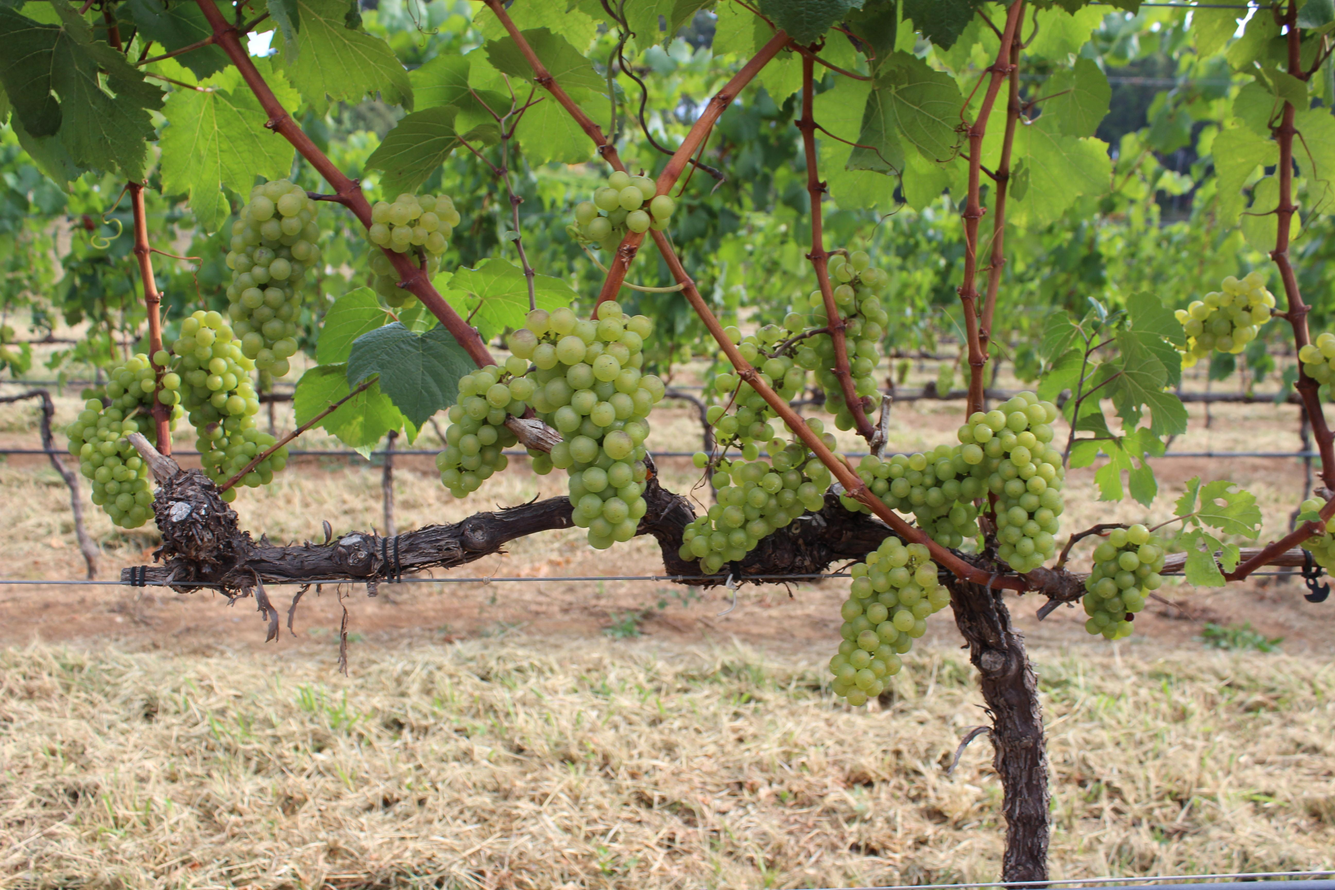leaf: (0, 0, 162, 181), (160, 68, 294, 232), (284, 0, 413, 116), (849, 53, 962, 173), (347, 322, 476, 426), (1008, 115, 1111, 227), (814, 78, 896, 209), (1104, 332, 1188, 436), (365, 106, 460, 194), (409, 54, 510, 132), (435, 257, 529, 340), (318, 382, 417, 456), (1212, 126, 1278, 225), (10, 114, 84, 192), (316, 287, 389, 365), (1126, 292, 1185, 386), (521, 27, 606, 92), (516, 96, 595, 165), (1175, 476, 1262, 538), (1095, 428, 1163, 506), (1045, 57, 1111, 137), (117, 0, 212, 51), (759, 0, 863, 45), (507, 0, 597, 51), (624, 0, 711, 50), (1294, 108, 1335, 212), (1027, 6, 1104, 61), (1196, 480, 1262, 538), (903, 0, 981, 49), (1176, 529, 1240, 587), (294, 363, 351, 425), (1225, 14, 1284, 71), (902, 151, 959, 210), (1122, 428, 1163, 506), (846, 0, 897, 62), (1239, 175, 1279, 252), (1231, 80, 1282, 138), (711, 2, 760, 58), (623, 0, 675, 51), (755, 50, 801, 105), (1038, 348, 1085, 400), (1094, 440, 1133, 501), (1192, 7, 1238, 57), (484, 36, 535, 81), (1260, 66, 1309, 109), (1038, 311, 1079, 361), (267, 0, 300, 61), (178, 45, 229, 79), (534, 275, 575, 311), (397, 300, 438, 332), (473, 6, 507, 41), (1296, 0, 1335, 29), (267, 72, 299, 107), (1175, 476, 1202, 517), (1069, 439, 1101, 468), (0, 85, 10, 126), (626, 0, 645, 17), (1290, 213, 1301, 238), (592, 0, 605, 16), (653, 18, 658, 33), (1072, 450, 1076, 466), (1082, 455, 1093, 460), (642, 42, 649, 48), (930, 0, 941, 3), (1070, 326, 1074, 330), (936, 192, 939, 196), (613, 6, 616, 9), (1272, 245, 1273, 247), (553, 4, 555, 5), (1058, 390, 1060, 391), (1170, 316, 1171, 317), (730, 4, 731, 5), (1082, 134, 1089, 134), (1054, 363, 1055, 363), (414, 301, 415, 301), (873, 63, 874, 63), (892, 182, 892, 184), (563, 84, 563, 85)
